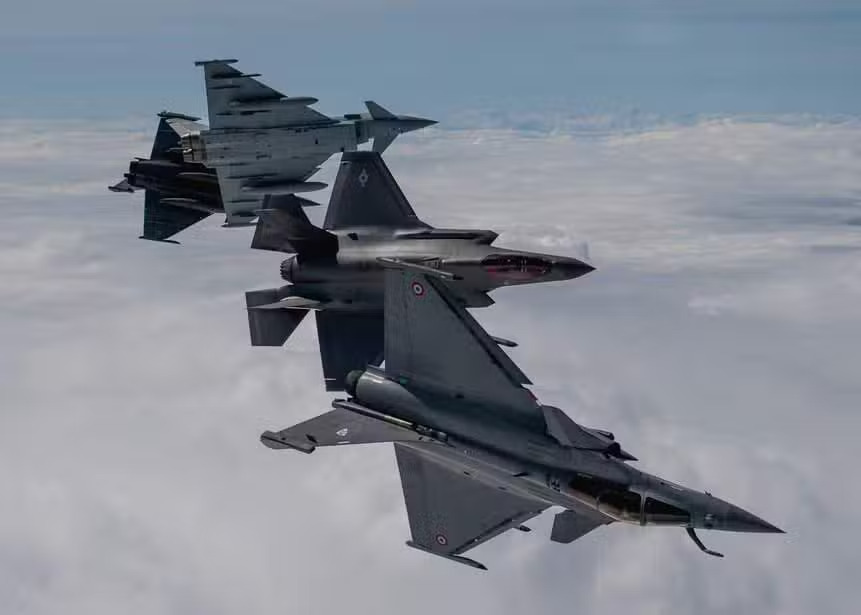F35: (238, 155, 612, 393)
Rafale: (252, 255, 802, 582)
